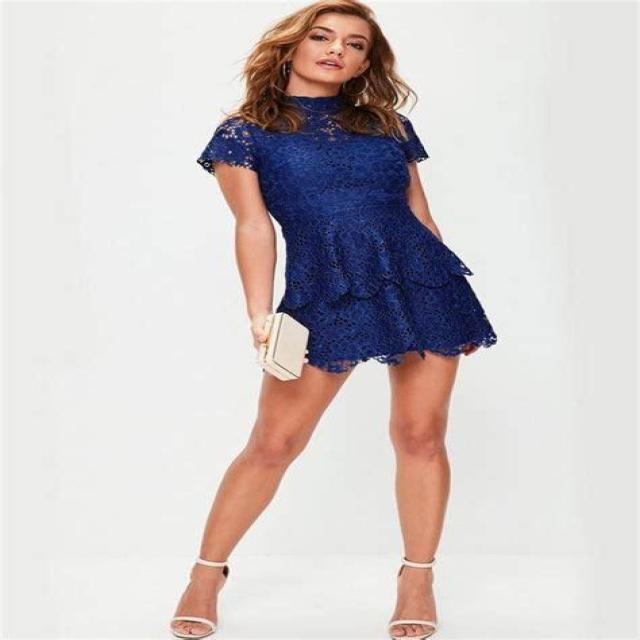dress: (198, 93, 500, 373)
